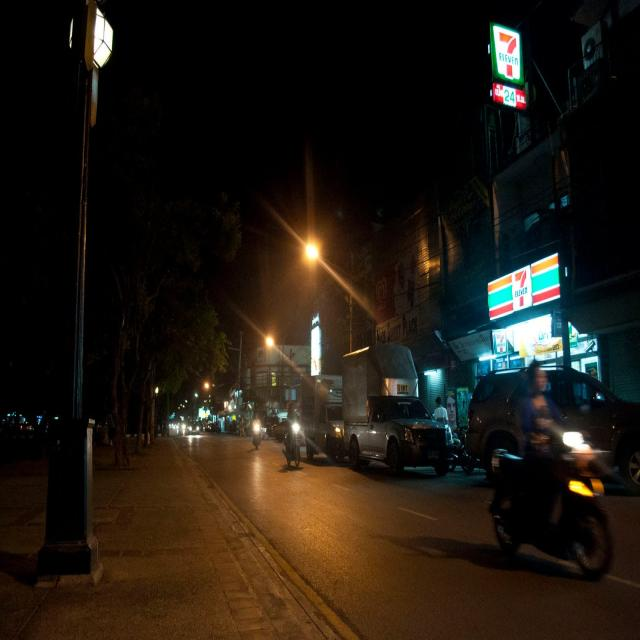Motorbike: (469, 423, 634, 589), (283, 411, 313, 475), (247, 421, 273, 454)
People: (508, 356, 581, 548), (282, 395, 302, 471), (432, 384, 451, 440), (248, 398, 262, 444)
car: (460, 350, 640, 504), (340, 329, 456, 476), (293, 354, 365, 465)
